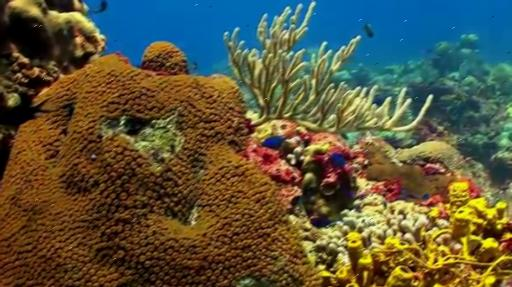Fish: (0, 96, 53, 126), (310, 214, 333, 228), (263, 135, 286, 148), (329, 153, 347, 168), (90, 0, 108, 13), (399, 189, 419, 200), (365, 24, 374, 38), (192, 62, 198, 70), (423, 194, 430, 200)
